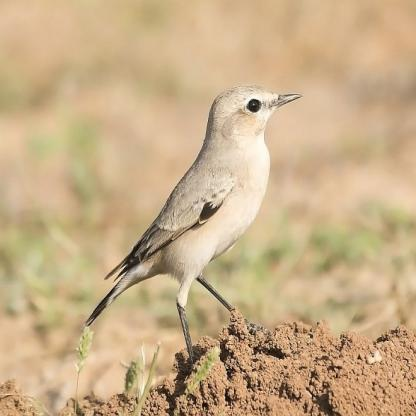Burung: (84, 78, 301, 375)
